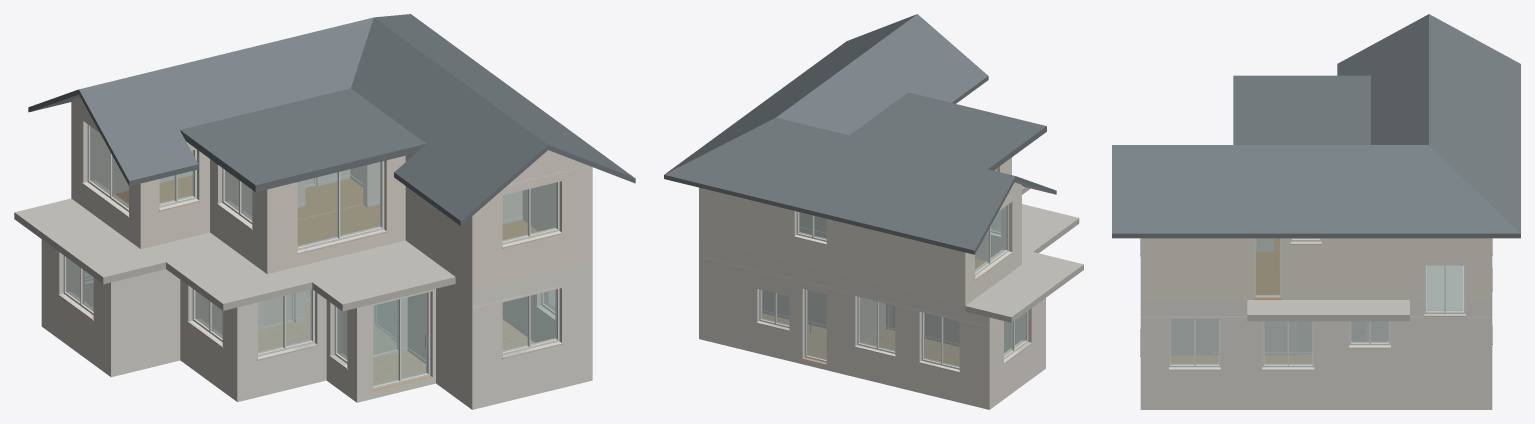
The picture shows the model from 3 angles, left to right: view 1: azimuth 30°, elevation 25°; view 2: azimuth 150°, elevation 25°; view 3: azimuth 270°, elevation 25°; orthographic projection. The views are drawn at different scales.
Visible parts, largest first — view 1: VIS_F2_WestSouthBalcony_0, VIS_UNCONFIRMED_Roof_South_0, VIS_Roof_Flat_UNCONFIRMED_0, VIS_UNCONFIRMED_Roof_West_0, VIS_F1_SouthRoom, VIS_F2_SouthRoom, VIS_F1_ClinicSouth, VIS_F2_LivingSouth, VIS_F1_WaitingSouth, VIS_UNCONFIRMED_Eaves_West_0, VIS_UNCONFIRMED_Eaves_South_0, VIS_F1_Floor_0 (+39 smaller); view 2: VIS_F1_North, VIS_UNCONFIRMED_Roof_North_0, VIS_F2_North, VIS_UNCONFIRMED_Eaves_North_0, VIS_UNCONFIRMED_Roof_West_0, VIS_Roof_Flat_UNCONFIRMED_0, VIS_F2_WestSouthBalcony_0, VIS_F1_Floor_0, VIS_UNCONFIRMED_Eaves_West_0, VIS_UNCONFIRMED_Roof_East_0, VIS_F1_ClinicWest, VIS_F2_MasterWest (+17 smaller); view 3: VIS_F1_East, VIS_UNCONFIRMED_Roof_East_0, VIS_F2_East, VIS_UNCONFIRMED_Eaves_East_0, VIS_Roof_Flat_UNCONFIRMED_0, VIS_UNCONFIRMED_Roof_North_0, VIS_UNCONFIRMED_Roof_South_0, VIS_UNCONFIRMED_Eaves_North_0, VIS_F2_EastBalcony_0, VIS_F1_Floor_0, VIS_F1_ContinuousCeiling, VIS_F2_Floor_0 (+20 smaller).
Boxes of the visible parts, x1,y1,x2,y2 form: VIS_F2_WestSouthBalcony_0: [14, 198, 455, 311]; VIS_UNCONFIRMED_Roof_South_0: [106, 17, 373, 145]; VIS_Roof_Flat_UNCONFIRMED_0: [180, 88, 425, 192]; VIS_UNCONFIRMED_Roof_West_0: [351, 17, 531, 185]; VIS_F1_SouthRoom: [465, 267, 592, 402]; VIS_F2_SouthRoom: [465, 150, 592, 288]; VIS_F1_ClinicSouth: [104, 269, 180, 370]; VIS_F2_LivingSouth: [260, 155, 405, 273]; VIS_F1_WaitingSouth: [230, 290, 326, 395]; VIS_UNCONFIRMED_Eaves_West_0: [394, 133, 548, 225]; VIS_UNCONFIRMED_Eaves_South_0: [79, 83, 198, 186]; VIS_F1_Floor_0: [41, 301, 592, 409]; VIS_F1_North: [699, 246, 994, 404]; VIS_UNCONFIRMED_Roof_North_0: [699, 117, 993, 221]; VIS_F2_North: [699, 187, 970, 305]; VIS_UNCONFIRMED_Eaves_North_0: [664, 157, 1015, 254]; VIS_UNCONFIRMED_Roof_West_0: [776, 23, 953, 135]; VIS_Roof_Flat_UNCONFIRMED_0: [849, 92, 1046, 170]; VIS_F2_WestSouthBalcony_0: [965, 186, 1083, 322]; VIS_F1_Floor_0: [699, 313, 1045, 409]; VIS_UNCONFIRMED_Eaves_West_0: [905, 14, 988, 103]; VIS_UNCONFIRMED_Roof_East_0: [699, 23, 903, 156]; VIS_F1_ClinicWest: [995, 302, 1040, 399]; VIS_F2_MasterWest: [971, 182, 1016, 301]; VIS_F1_East: [1153, 306, 1479, 403]; VIS_UNCONFIRMED_Roof_East_0: [1140, 145, 1491, 205]; VIS_F2_East: [1153, 238, 1479, 299]; VIS_UNCONFIRMED_Eaves_East_0: [1112, 145, 1520, 238]; VIS_Roof_Flat_UNCONFIRMED_0: [1233, 75, 1370, 144]; VIS_UNCONFIRMED_Roof_North_0: [1429, 26, 1492, 205]; VIS_UNCONFIRMED_Roof_South_0: [1366, 26, 1428, 144]; VIS_UNCONFIRMED_Eaves_North_0: [1429, 14, 1520, 233]; VIS_F2_EastBalcony_0: [1247, 300, 1409, 321]; VIS_F1_Floor_0: [1140, 354, 1492, 409]; VIS_F1_ContinuousCeiling: [1140, 265, 1492, 317]; VIS_F2_Floor_0: [1140, 238, 1492, 306].
Size of the model in its own units: 12.7 by 7.59 by 11.8.
